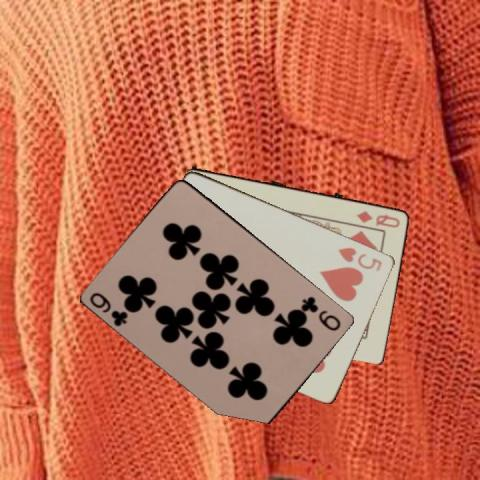5h: (335, 244, 384, 273)
9c: (299, 292, 343, 332), (87, 289, 130, 328)
Qd: (354, 207, 402, 229)
